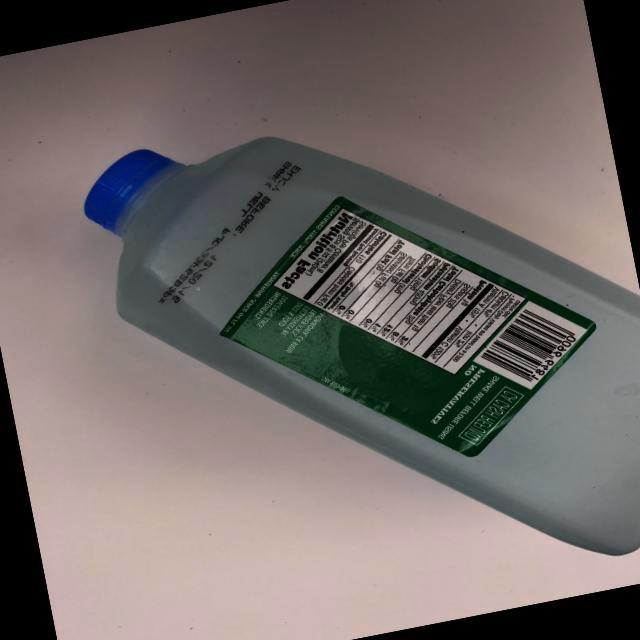plastic: (42, 41, 640, 640)
